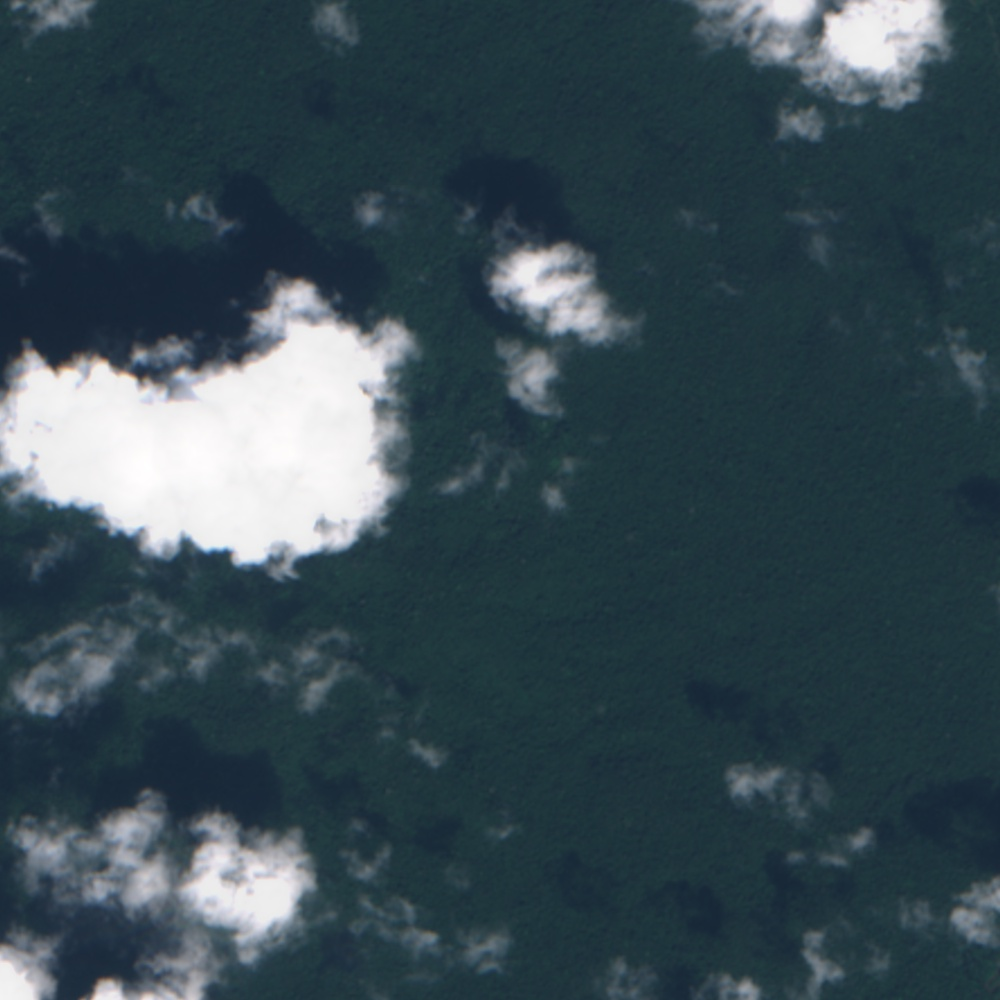illegal: (958, 948, 984, 990)
